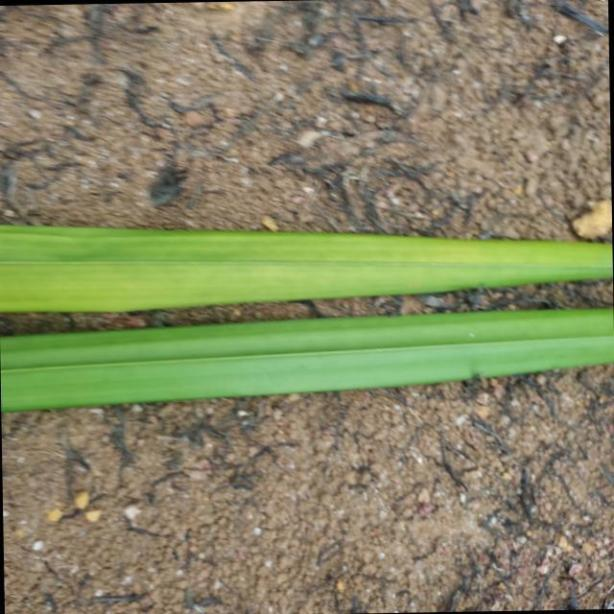nitrogen: (0, 213, 614, 310), (0, 309, 614, 406)
